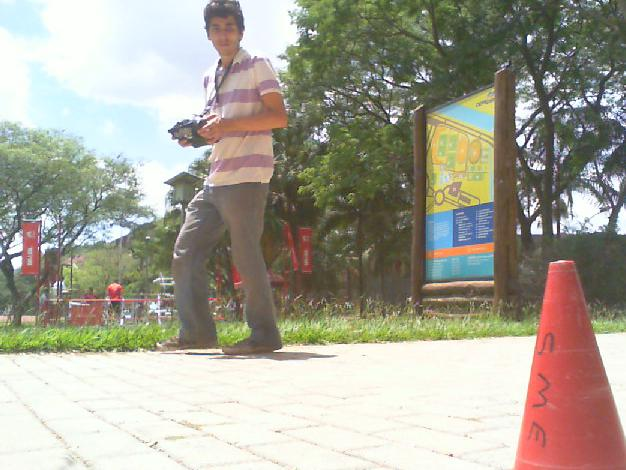0 cone: (488, 260, 626, 470)
